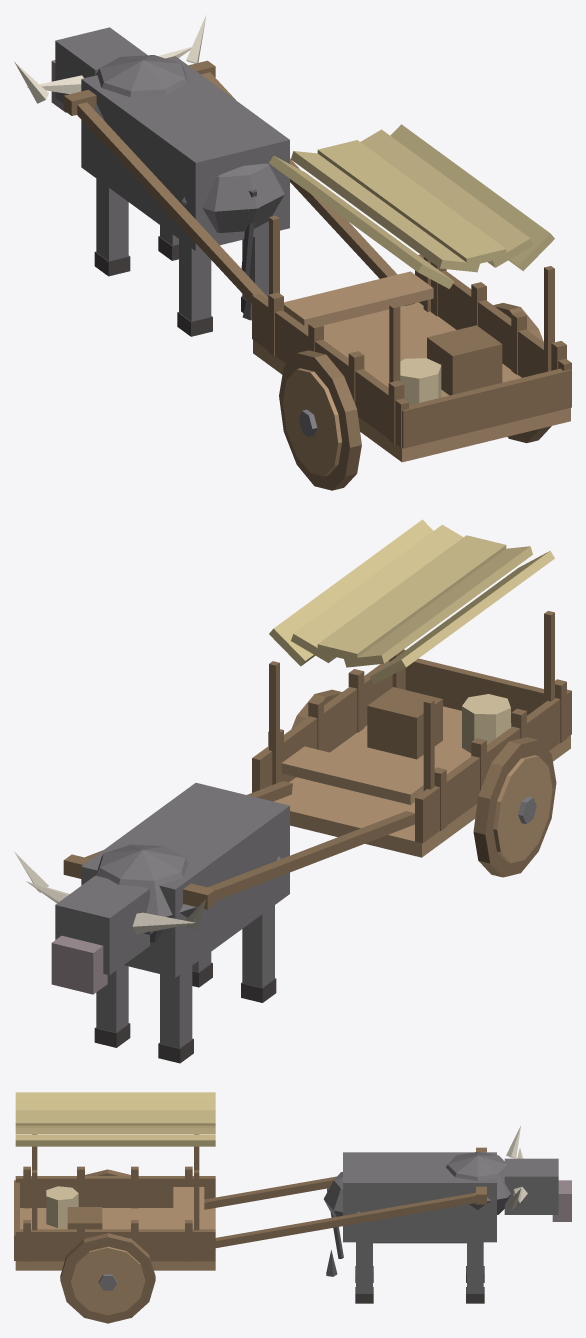
File: jungle_cart.glb
The picture shows the model from 3 angles, top to bottom: view 1: azimuth 30°, elevation 25°; view 2: azimuth 150°, elevation 25°; view 3: azimuth 270°, elevation 25°; orthographic projection. The views are drawn at different scales.
Parts seen in each view (by area): view 1: cart_frame, buffalo_body, cart_canopy_a, cart_wheelL, buffalo_head, buffalo_legBL, buffalo_legFL, buffalo_legBR, cart_wheelR, buffalo_tail; view 2: cart_frame, cart_canopy_a, buffalo_body, buffalo_head, cart_wheelL, buffalo_legFL, buffalo_legBL, buffalo_legFR; view 3: cart_frame, buffalo_body, cart_canopy_a, cart_wheelR, buffalo_head, buffalo_legFR, buffalo_legBR, buffalo_tail.
Boxes of the visible parts, left/top/right/bottom form: cart_frame: left=63, top=60, right=571, bottom=462; buffalo_body: left=81, top=55, right=289, bottom=250; cart_canopy_a: left=269, top=124, right=554, bottom=382; cart_wheelL: left=279, top=350, right=361, bottom=490; buffalo_head: left=14, top=15, right=206, bottom=112; buffalo_legBL: left=177, top=239, right=212, bottom=336; buffalo_legFL: left=94, top=178, right=130, bottom=276; buffalo_legBR: left=241, top=233, right=268, bottom=312; cart_wheelR: left=493, top=303, right=551, bottom=443; buffalo_tail: left=241, top=189, right=256, bottom=320; cart_frame: left=63, top=649, right=571, bottom=909; cart_canopy_a: left=269, top=519, right=554, bottom=790; buffalo_body: left=81, top=783, right=289, bottom=977; buffalo_head: left=14, top=851, right=206, bottom=994; cart_wheelL: left=473, top=737, right=556, bottom=877; buffalo_legFL: left=158, top=966, right=193, bottom=1063; buffalo_legBL: left=241, top=905, right=276, bottom=1002; buffalo_legFR: left=94, top=965, right=130, bottom=1047; cart_frame: left=14, top=1147, right=486, bottom=1270; buffalo_body: left=324, top=1151, right=510, bottom=1243; cart_canopy_a: left=15, top=1092, right=215, bottom=1230; cart_wheelR: left=60, top=1233, right=155, bottom=1323; buffalo_head: left=504, top=1126, right=571, bottom=1221; buffalo_legFR: left=466, top=1242, right=484, bottom=1303; buffalo_legBR: left=355, top=1242, right=373, bottom=1303; buffalo_tail: left=326, top=1188, right=343, bottom=1276.
Size of the model in its own units: 2.26 by 2.53 by 7.25.
